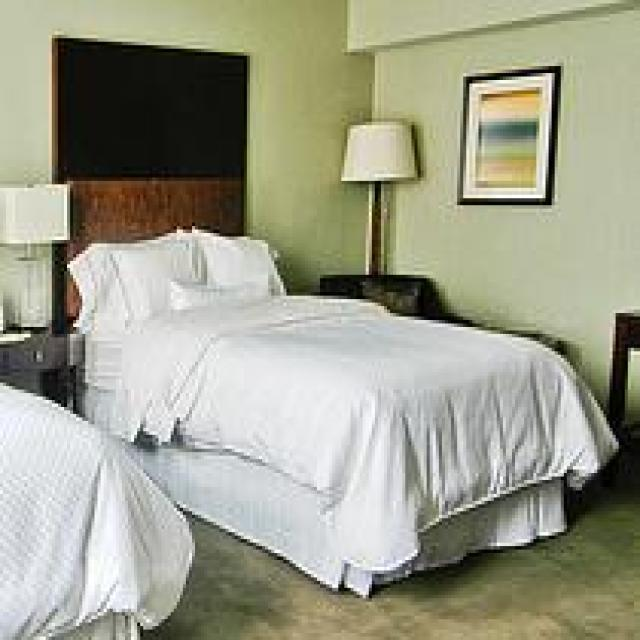bed: (67, 182, 621, 610)
